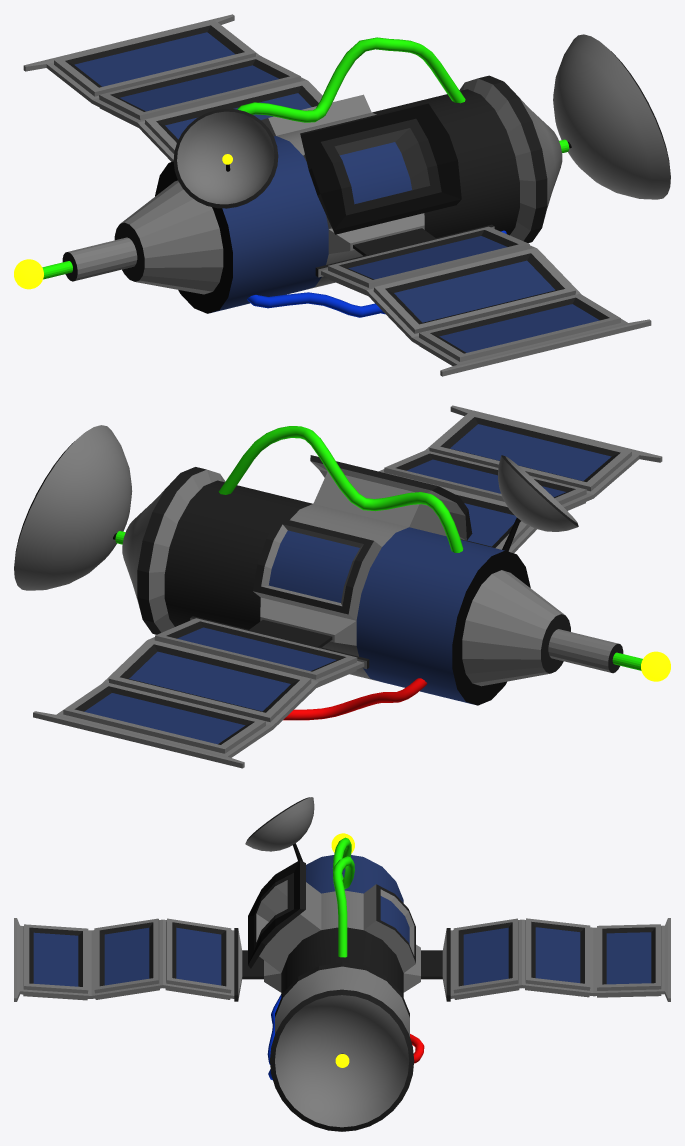
File: satellite.FBX
3 renders of one model, top to bottom at view 1: azimuth 30°, elevation 25°; view 2: azimuth 150°, elevation 25°; view 3: azimuth 270°, elevation 25°, orthographic. The views are drawn at different scales.
Visible parts, largest first — view 1: Cylinder001, Sphere001, Sphere002, Loft001, Loft003, Box001; view 2: Cylinder001, Sphere001, Loft001, Sphere002, Loft002, Box001; view 3: Cylinder001, Sphere001, Sphere002, Loft001.
Part boxes in pixels (box(x1,y1,x2,y2)): Cylinder001: box(23, 14, 651, 376); Sphere001: box(553, 34, 670, 199); Sphere002: box(173, 108, 278, 208); Loft001: box(237, 37, 465, 122); Loft003: box(247, 230, 506, 317); Box001: box(14, 259, 43, 289); Cylinder001: box(33, 405, 662, 768); Sphere001: box(14, 425, 132, 590); Loft001: box(218, 426, 463, 552); Sphere002: box(498, 455, 578, 531); Loft002: box(283, 678, 427, 720); Box001: box(641, 651, 670, 681); Cylinder001: box(14, 855, 670, 1053); Sphere001: box(270, 989, 414, 1131); Sphere002: box(245, 797, 314, 851); Loft001: box(332, 837, 354, 957).
Size of the model in its own units: 176 by 70.8 by 204.
